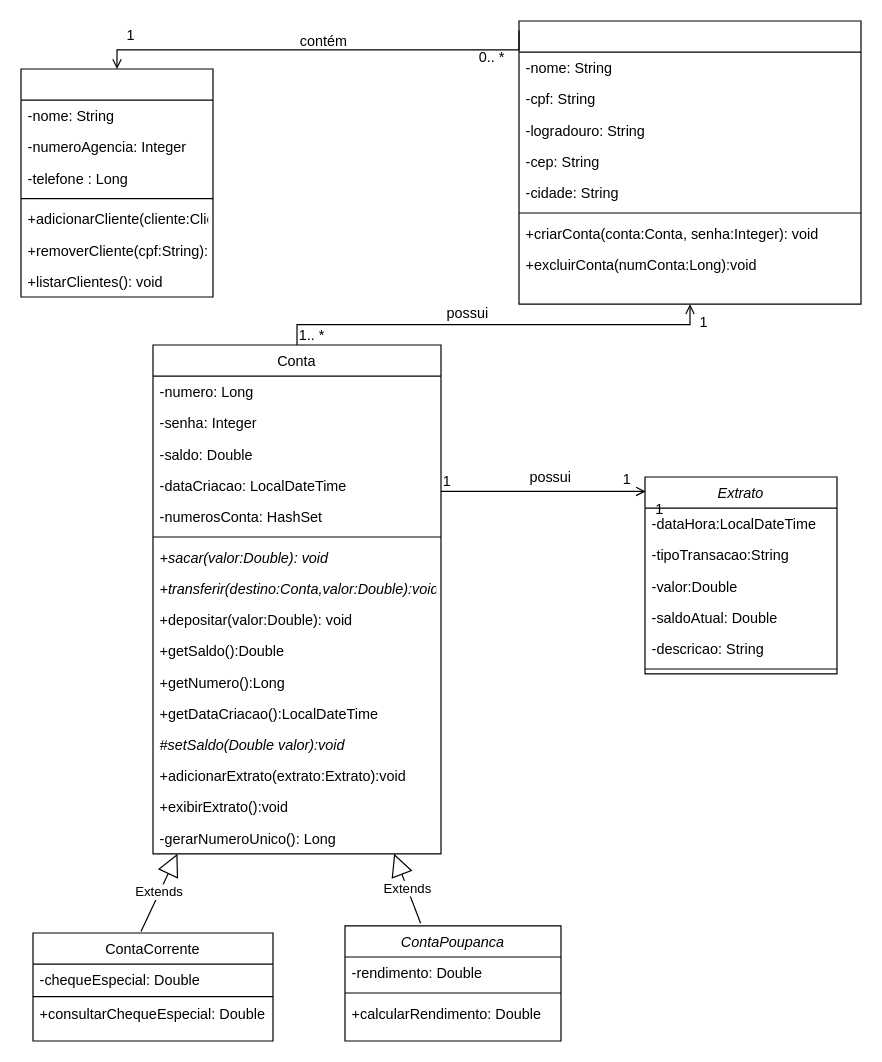
Some shapes in this 882 by 1062 pixel diagram are drawn without their labels. Each missing label, with the box of its shape:
Banco: (20, 68, 213, 297)
Cliente: (518, 20, 861, 304)
